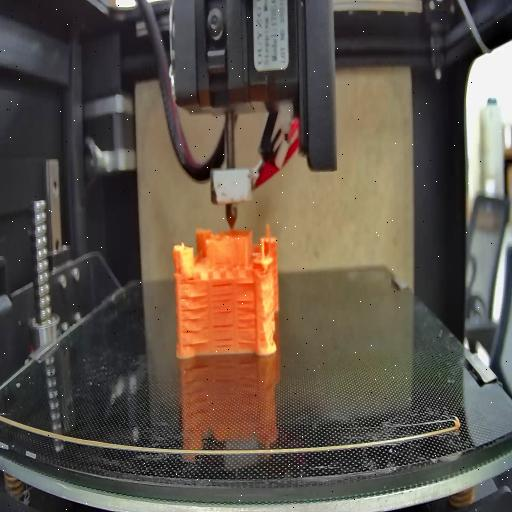cracks: (182, 292, 210, 348), (237, 297, 256, 345), (211, 281, 233, 313), (214, 324, 234, 346), (234, 280, 254, 292)
